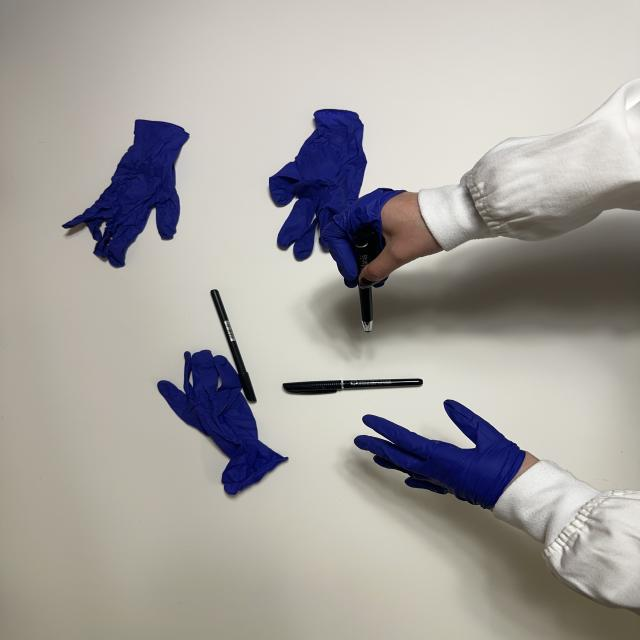glove_partial: (353, 397, 545, 513), (318, 187, 449, 290)
